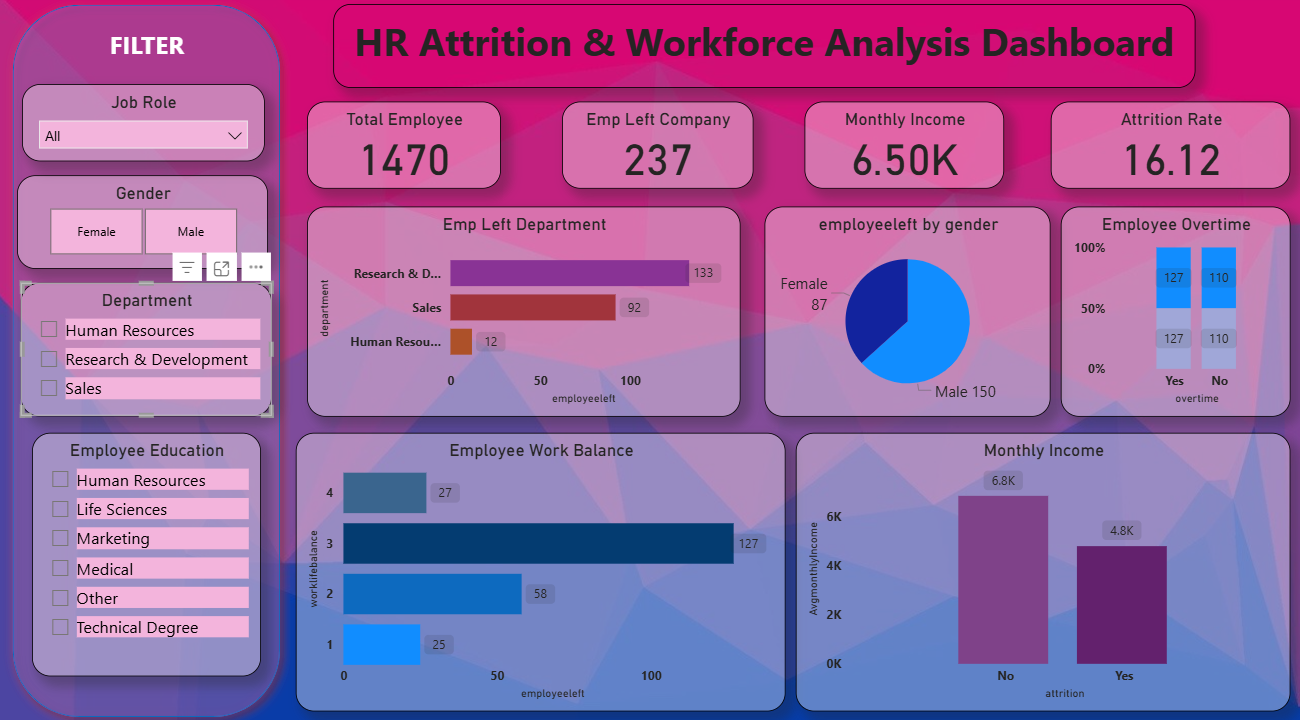

Layout of this report page (visuals, bound fields, positions):
{"tool":"powerbi","page":{"name":"Page 1","canvas":[1900,1000],"ordinal":0},"visuals":[{"type":"card","title":"Total Employee","fields":{"Values":["public hr_attrition.TotalEmp"]},"box":[437.1,110.6,340.4,120.9],"z":0},{"type":"card","title":"Emp Left Company","fields":{"Values":["public hr_attrition.employeeleft"]},"box":[794.8,110.6,321.4,120.9],"z":1000},{"type":"card","title":"Attrition Rate","fields":{"Values":["public hr_attrition.attrition Rate %"]},"box":[1521.8,115.9,364.7,115.9],"z":2000},{"type":"card","title":"Monthly Income","fields":{"Values":["public hr_attrition.AvgmonthlyIncome"]},"box":[1147.2,115.8,338.6,115.8],"z":3000},{"type":"clusteredBarChart","title":"Emp Left Department","fields":{"Category":["public hr_attrition.department"],"Y":["public hr_attrition.employeeleft"]},"box":[437.1,238.4,561.5,357.6],"z":4000},{"type":"hundredPercentStackedColumnChart","title":"Employee Overtime","fields":{"Category":["public hr_attrition.overtime"],"Y":["public hr_attrition.employeeleft"],"Series":["public hr_attrition.attrition"]},"box":[1458.2,238.4,428.5,357.6],"z":6000},{"type":"pieChart","fields":{"Category":["public hr_attrition.gender"],"Y":["public hr_attrition.employeeleft"]},"box":[1014.2,238.4,428.5,357.6],"z":7000},{"type":"columnChart","title":"Monthly Income","fields":{"Category":["public hr_attrition.attrition"],"Y":["public hr_attrition.AvgmonthlyIncome"]},"box":[1192.1,611.6,682.5,357.6],"z":8000},{"type":"clusteredBarChart","title":"Employee Work Balance","fields":{"Y":["public hr_attrition.employeeleft"],"Category":["public hr_attrition.worklifebalance"]},"box":[437.1,611.6,722.2,357.6],"z":9000},{"type":"slicer","title":"Department","fields":{"Values":["public hr_attrition.department"]},"box":[20.7,188.3,371.5,127.9],"z":11000},{"type":"slicer","title":"Gender","fields":{"Values":["public hr_attrition.gender"]},"box":[20.7,84.7,371.5,86.4],"z":12000},{"type":"slicer","title":"Job Role","fields":{"Values":["public hr_attrition.jobrole"]},"box":[20.7,338.6,371.5,359.4],"z":13000},{"type":"slicer","title":"Employee Education","fields":{"Values":["public hr_attrition.educationfield"]},"box":[22.5,713.5,371.5,255.7],"z":14000},{"type":"textbox","box":[600.7,8.6,1030.4,88],"z":15000}]}

Visuals, with their boxes on the page's 1900x1000 design canvas (x1, y1, x2, y2). These are canvas units, not pixel positions in the 1300x720 screenshot, which may show the page scaled, cropped or inside an application window:
"Total Employee" card: pyautogui.locateOnScreen(437, 111, 778, 232)
"Emp Left Company" card: pyautogui.locateOnScreen(795, 111, 1116, 232)
"Attrition Rate" card: pyautogui.locateOnScreen(1522, 116, 1886, 232)
"Monthly Income" card: pyautogui.locateOnScreen(1147, 116, 1486, 232)
"Emp Left Department" clusteredBarChart: pyautogui.locateOnScreen(437, 238, 999, 596)
"Employee Overtime" hundredPercentStackedColumnChart: pyautogui.locateOnScreen(1458, 238, 1887, 596)
pieChart - public hr_attrition.gender x public hr_attrition.employeeleft: pyautogui.locateOnScreen(1014, 238, 1443, 596)
"Monthly Income" columnChart: pyautogui.locateOnScreen(1192, 612, 1875, 969)
"Employee Work Balance" clusteredBarChart: pyautogui.locateOnScreen(437, 612, 1159, 969)
"Department" slicer: pyautogui.locateOnScreen(21, 188, 392, 316)
"Gender" slicer: pyautogui.locateOnScreen(21, 85, 392, 171)
"Job Role" slicer: pyautogui.locateOnScreen(21, 339, 392, 698)
"Employee Education" slicer: pyautogui.locateOnScreen(22, 714, 394, 969)
textbox: pyautogui.locateOnScreen(601, 9, 1631, 97)
